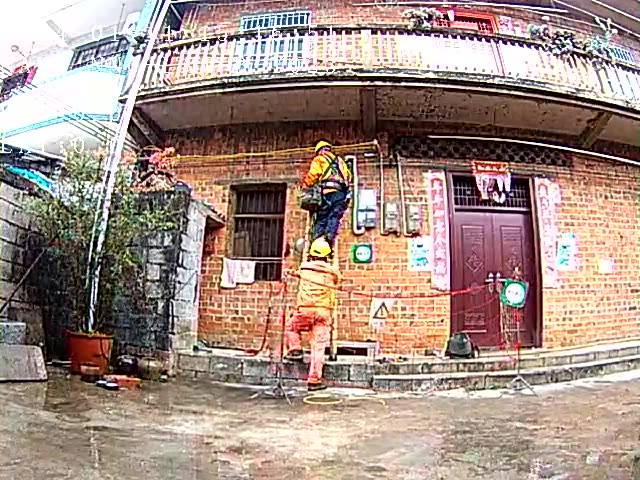halt: (311, 241, 335, 264), (316, 143, 335, 158)
